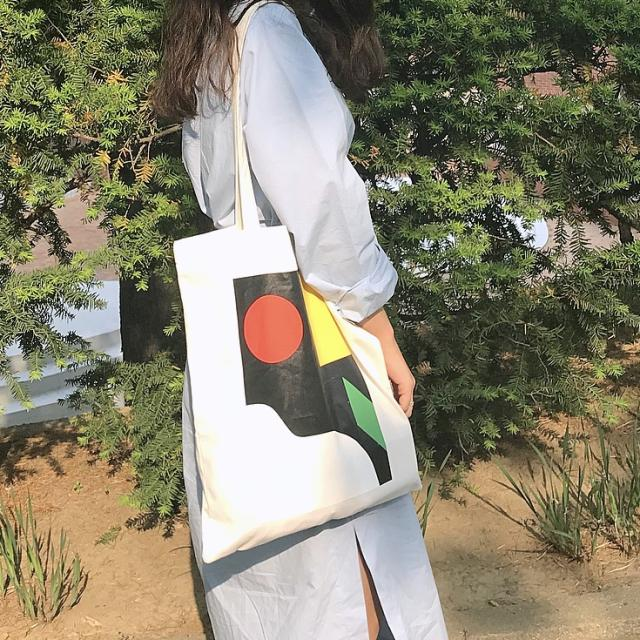ecobag: (170, 23, 432, 572)
